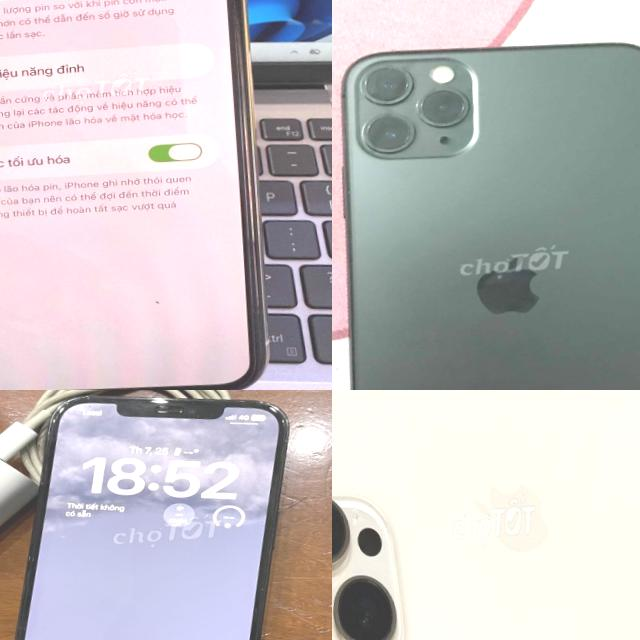gen_11: (332, 25, 640, 390), (0, 0, 286, 390)
gen_12_13: (0, 390, 312, 640)
gen_16: (332, 390, 640, 640)
